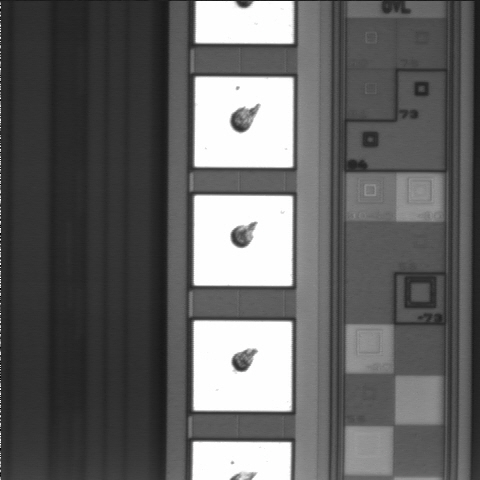pad: (194, 195, 293, 286), (193, 321, 292, 411), (195, 77, 293, 167)
